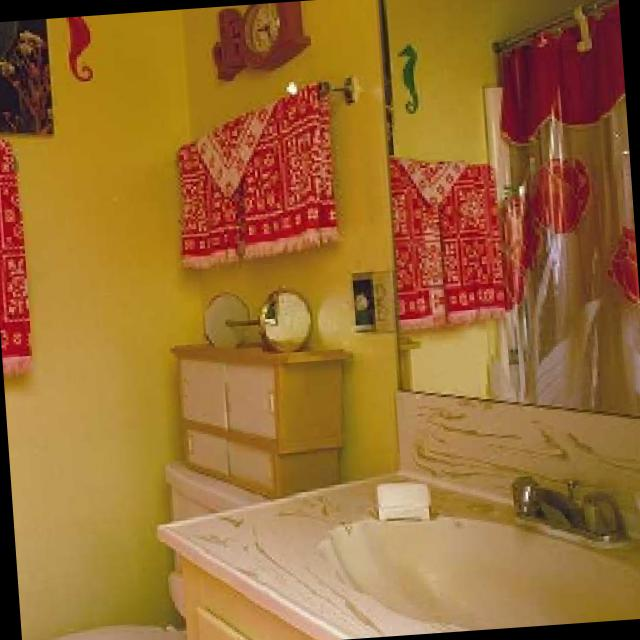Mirror: (383, 0, 640, 412)
Towel: (185, 79, 338, 256)
cabinet door: (171, 335, 355, 496), (183, 553, 310, 640)
clock crop: (210, 0, 318, 78)
counter bottom: (160, 390, 640, 638)
mirror crop: (380, 0, 640, 412)
painting crop: (0, 18, 56, 125)
shower door handle: (484, 0, 640, 411)
sink basin: (328, 520, 640, 626)
sink occluded: (510, 468, 634, 541)
soap bottle: (379, 480, 433, 501)
soap dispenser: (381, 503, 433, 519)
toilet bowl: (42, 553, 189, 640), (164, 458, 269, 518)
towel basket: (0, 136, 37, 372)
towel ring: (331, 72, 362, 100)
towels: (182, 77, 342, 265), (394, 154, 507, 329)
wall outlets: (354, 271, 383, 330)
